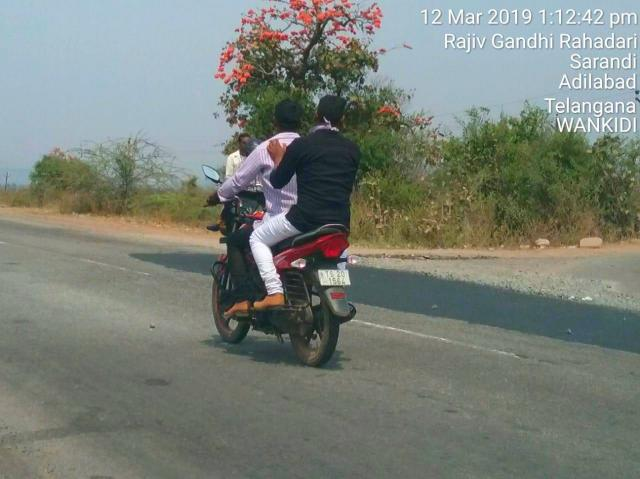motor: (206, 196, 358, 371)
non-helm: (275, 100, 302, 134), (318, 96, 346, 128)
